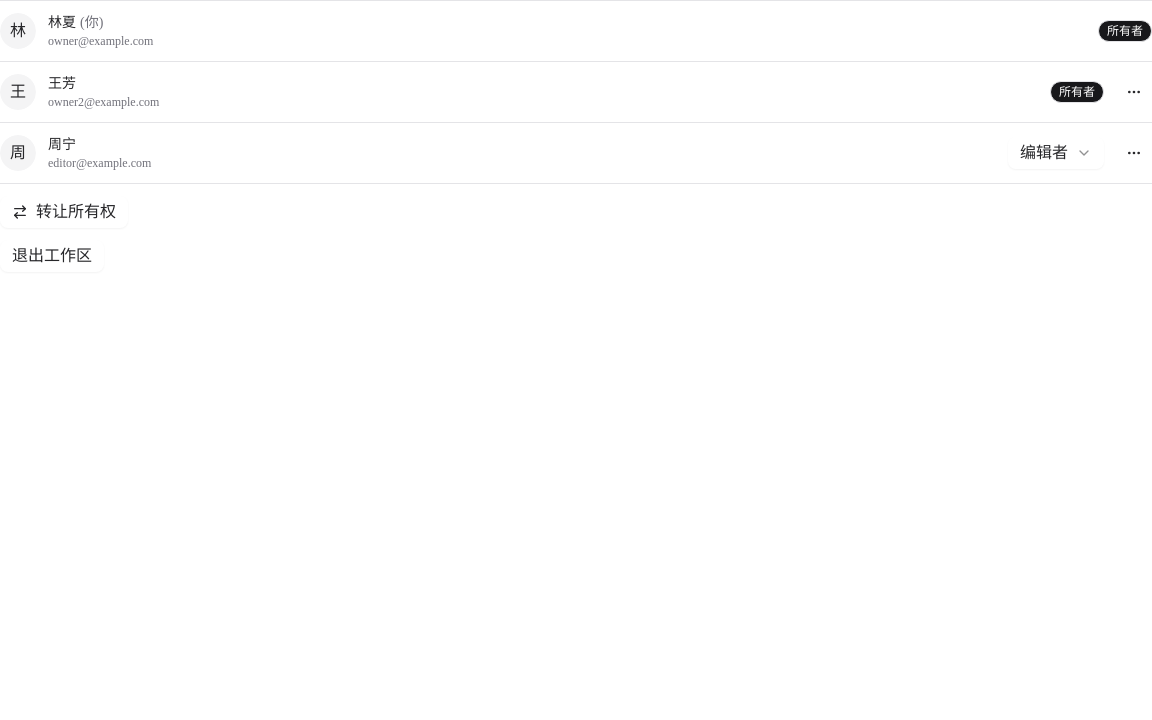
Test: WorkspaceMembersTab › protects the final owner and defaults transfer retention on
Check: the text "owner@example.com" is shown, box x1=48 y1=34 x2=153 y2=48
Check: the button "退出工作区" is enabled, box x1=0 y1=240 x2=104 y2=272
Click the button "转让所有权" at [64, 212], box x1=0 y1=196 x2=128 y2=228
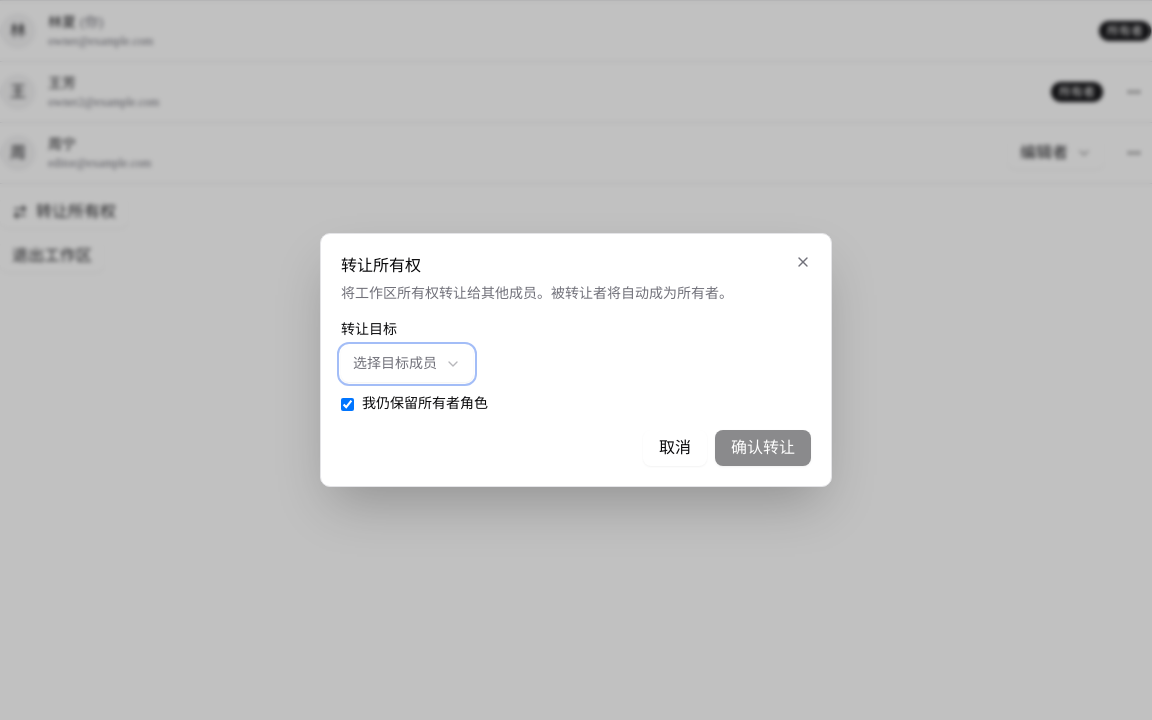
Check: the checkbox labelled "我仍保留所有者角色" is checked, box x1=341 y1=398 x2=354 y2=410
